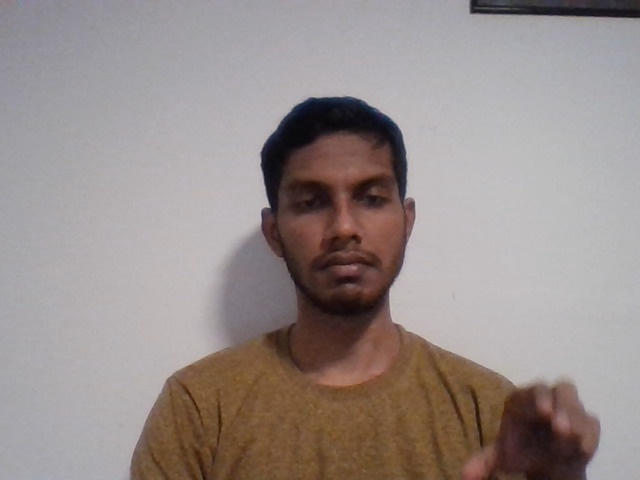no: (454, 369, 621, 480)
